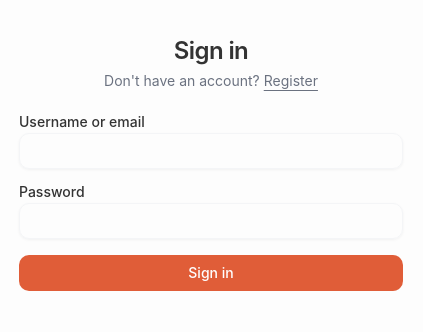
Test: LoginPage › shows validation errors when submitted empty
The width and height of the screenshot is (423, 332).
Click the button "Sign in".
click(211, 273)  # box [19,255,403,291]
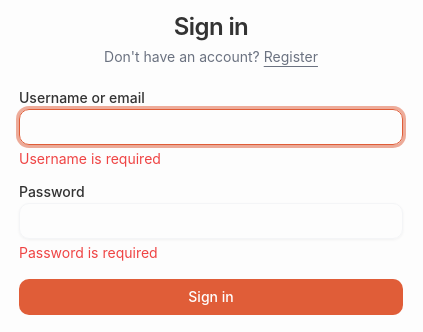
Expected: the text "Username is required" is shown, [19,150,161,167]
Expected: the text "Password is required" is shown, [19,244,158,261]
